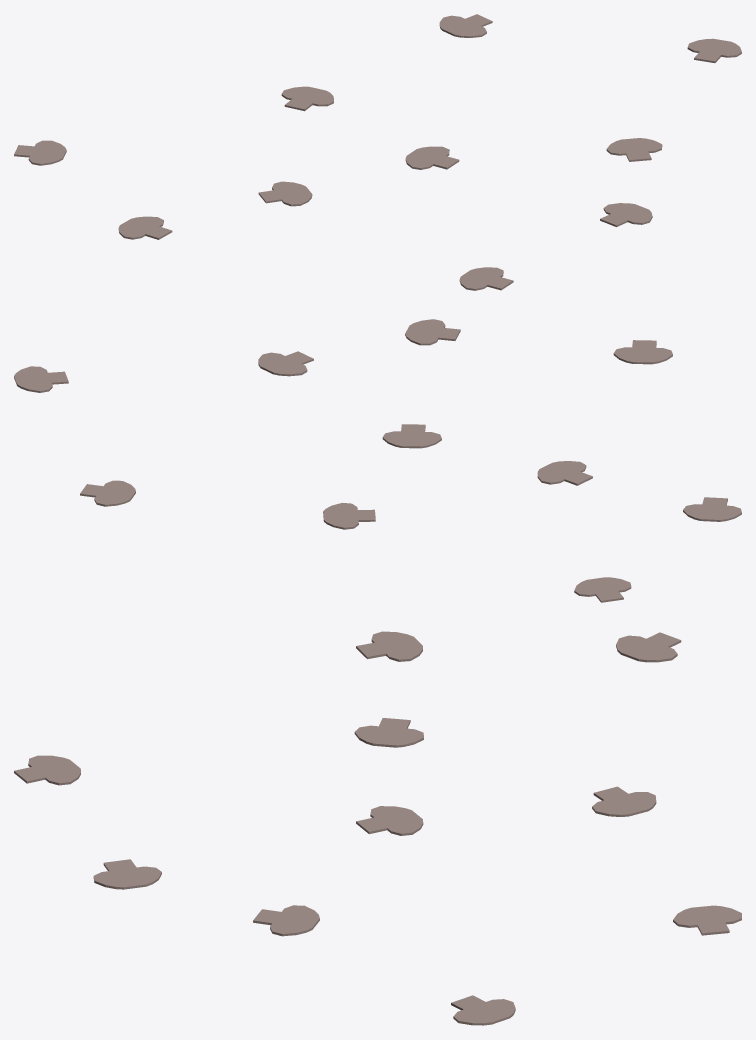
Rendered from Hongos.glb.
3 renders of one model, top to bottom at view 1: azimuth 30°, elevation 25°; view 2: azimuth 150°, elevation 25°; view 3: azimuth 270°, elevation 25°, orthographic. The views are drawn at different scales.
Visible parts, largest first — view 1: Hongos; view 2: Hongos; view 3: Hongos.
Part boxes in pixels (x1=…): Hongos: x1=14, y1=14, x2=741, y2=290; Hongos: x1=14, y1=319, x2=741, y2=602; Hongos: x1=14, y1=631, x2=741, y2=1025.
Bounding box in the file's own units: 4.44 × 0.036 × 3.44.
